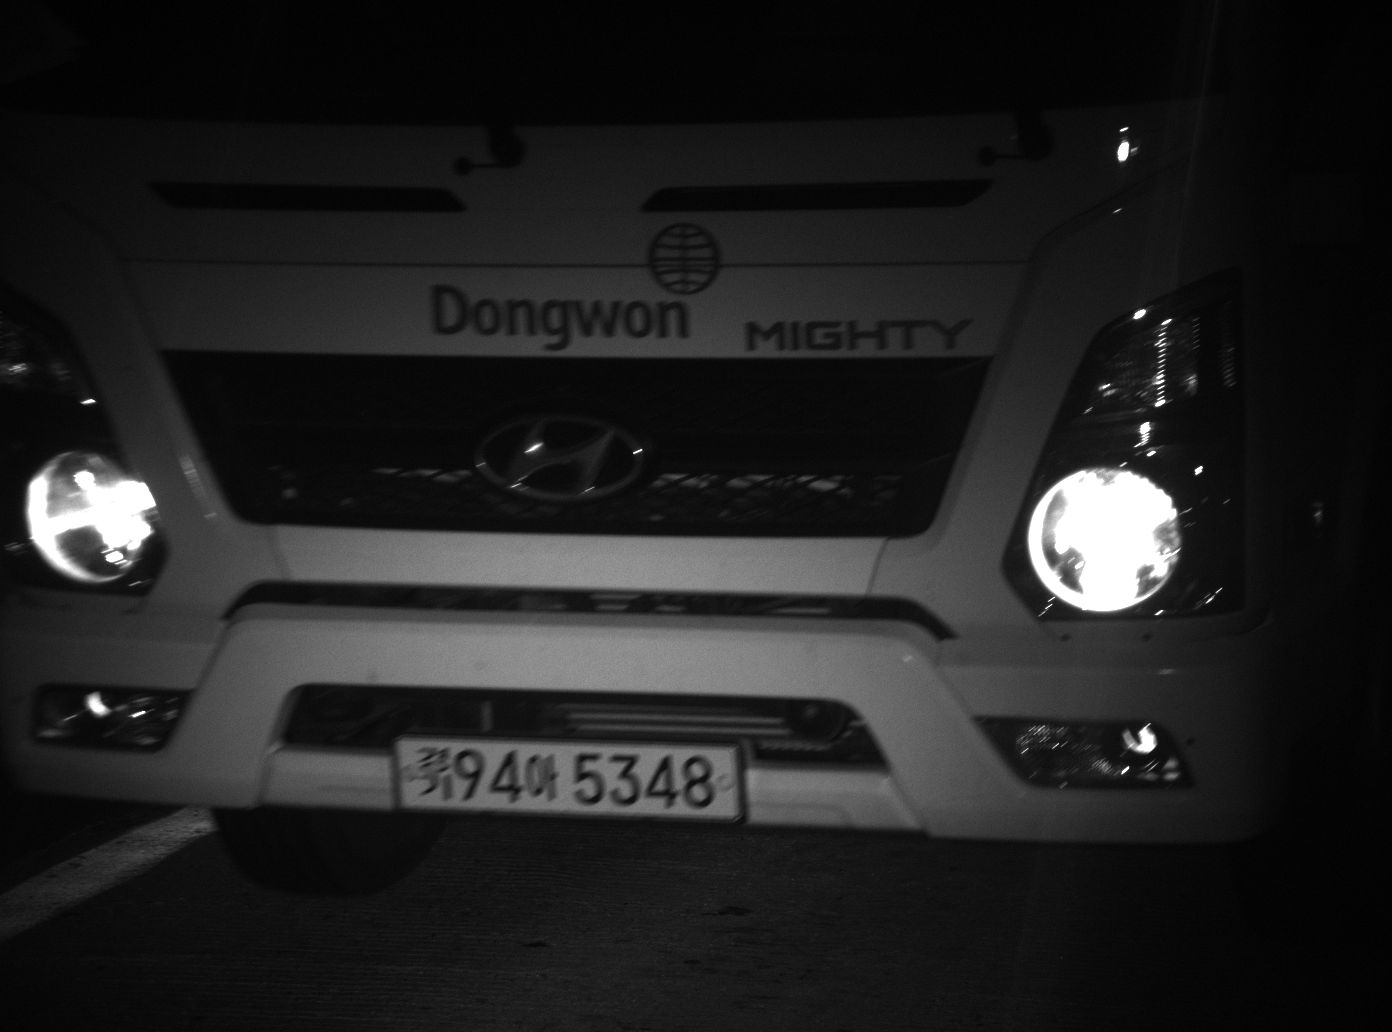car: (1, 1, 1384, 932)
plate: (393, 735, 744, 823)
